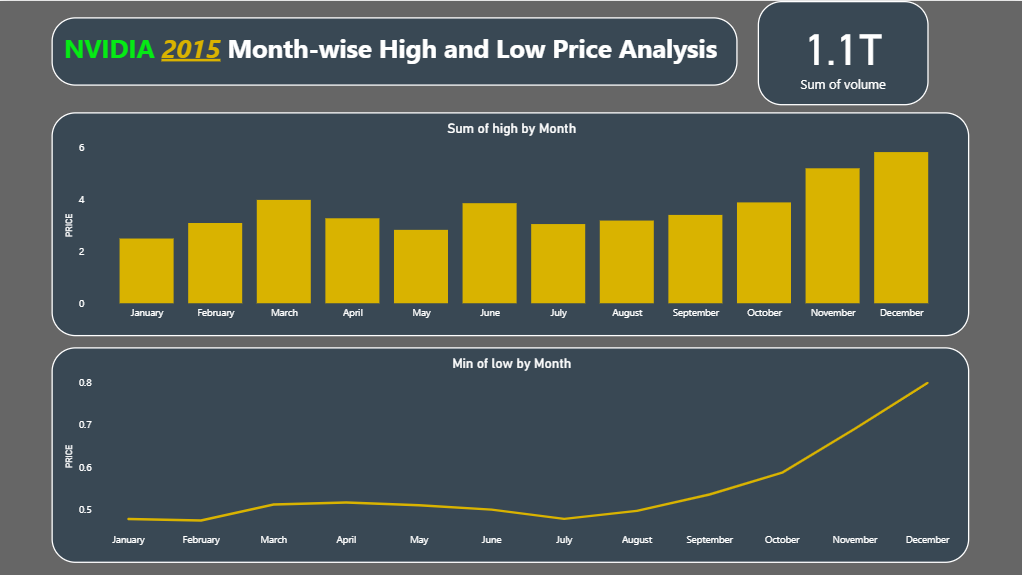

The dashboard page shown, as its layout file describes it:
{"tool":"powerbi","page":{"name":"Page 3","canvas":[1280,720],"ordinal":2},"visuals":[{"type":"lineChart","fields":{"Category":["nvidia_stock_2015_to_2024.date.Variation.Date Hierarchy.Month"],"Y":["Min(nvidia_stock_2015_to_2024.low)"]},"box":[66.3,433.1,1147.2,269.9],"z":0},{"type":"textbox","box":[66.3,20.9,857.7,85.9],"z":1},{"type":"card","fields":{"Values":["Sum(nvidia_stock_2015_to_2024.volume)"]},"box":[948.5,0,213.5,130.1],"z":2},{"type":"lineStackedColumnComboChart","fields":{"Category":["nvidia_stock_2015_to_2024.date.Variation.Date Hierarchy.Month"],"Y":["Sum(nvidia_stock_2015_to_2024.high)"]},"box":[67.5,141.1,1147.2,279.8],"z":3}]}

Visuals, with their boxes in screenshot pixels (x1, y1, x2, y2), scaled from the page's 1280x720 canvas onto the 1022x575 screenshot:
lineChart - nvidia_stock_2015_to_2024.date.Variation.Date Hierarchy.Month x Min(nvidia_stock_2015_to_2024.low): box=[53, 346, 969, 561]
textbox: box=[53, 17, 738, 85]
card - Sum(nvidia_stock_2015_to_2024.volume): box=[757, 0, 928, 104]
lineStackedColumnComboChart - nvidia_stock_2015_to_2024.date.Variation.Date Hierarchy.Month x Sum(nvidia_stock_2015_to_2024.high): box=[54, 113, 970, 336]
